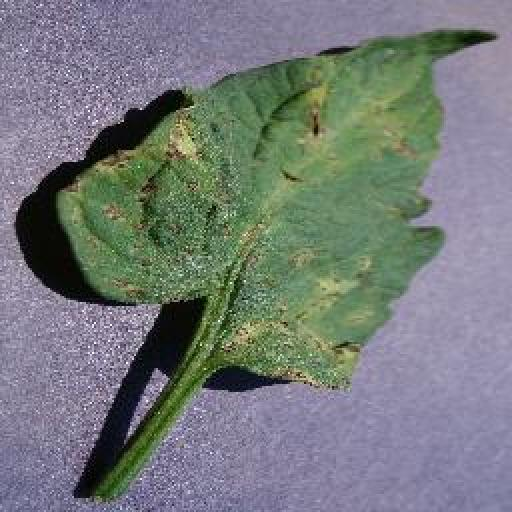disease_tomato: (51, 24, 500, 393)
